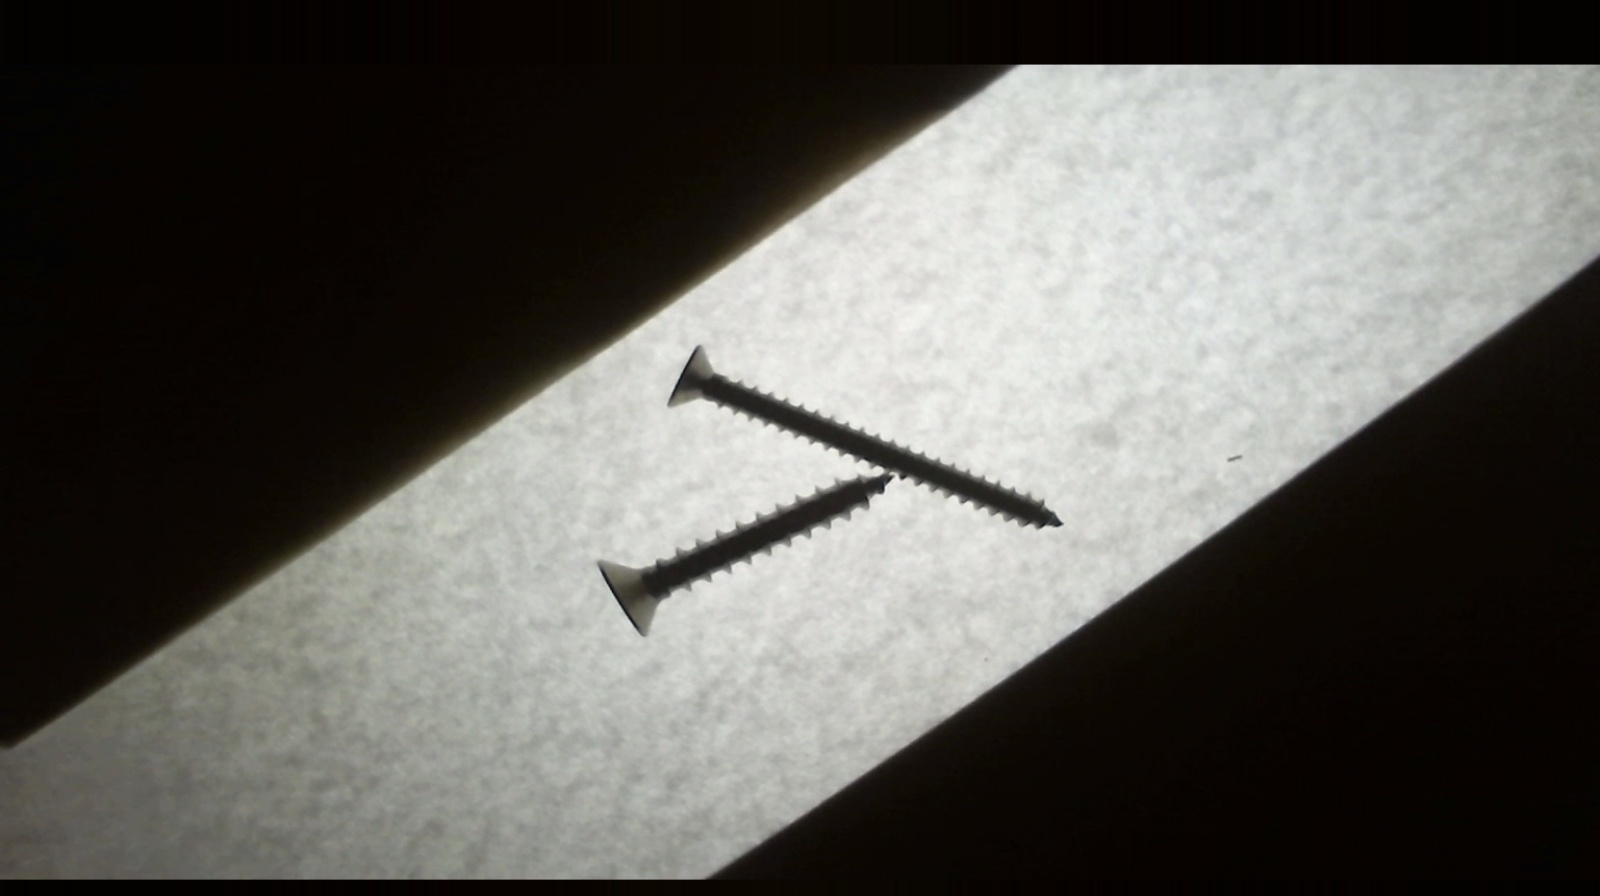S001: (591, 471, 899, 639)
S002: (665, 336, 1069, 532)
